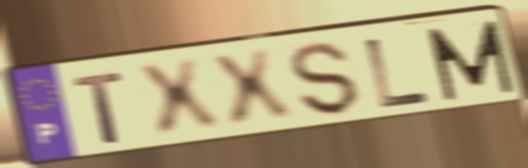L: (362, 35, 434, 111)
M: (423, 17, 519, 104)
S: (287, 40, 363, 118)
T: (70, 69, 128, 147)
X: (204, 46, 299, 134), (132, 56, 226, 143)
